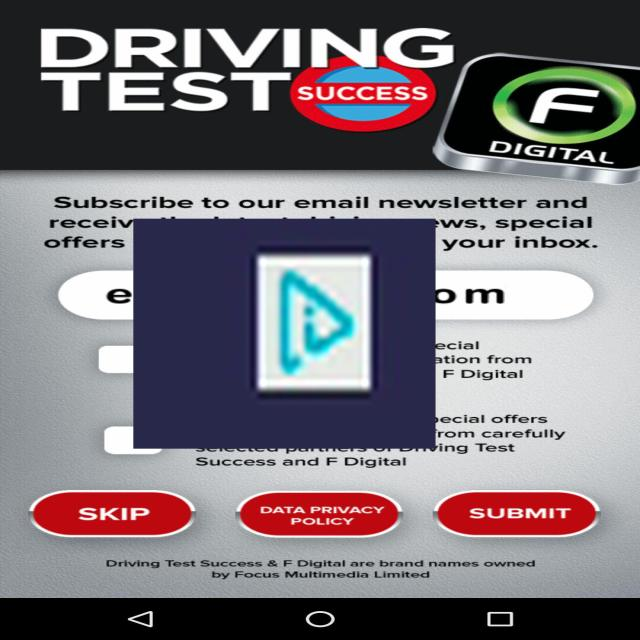sneaking: (134, 218, 436, 448)
